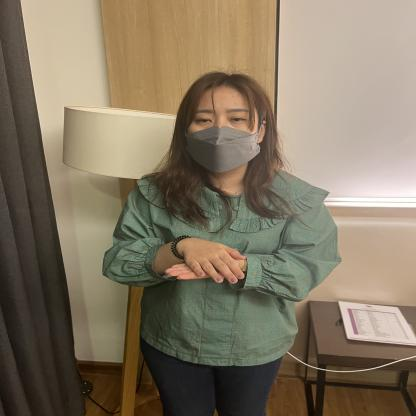Love: (119, 212, 334, 305)
